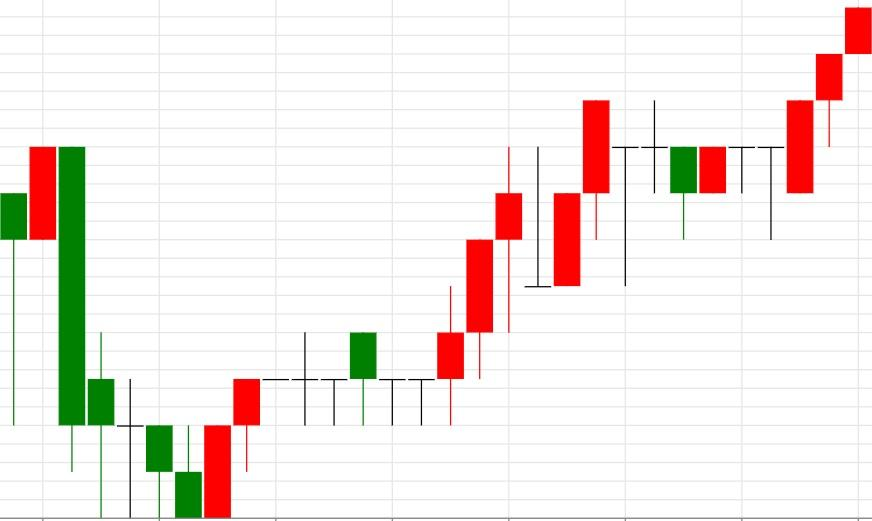bullish_engulfing_rise: (28, 146, 233, 519)
three_white_soldiers_rise: (582, 6, 872, 287)
